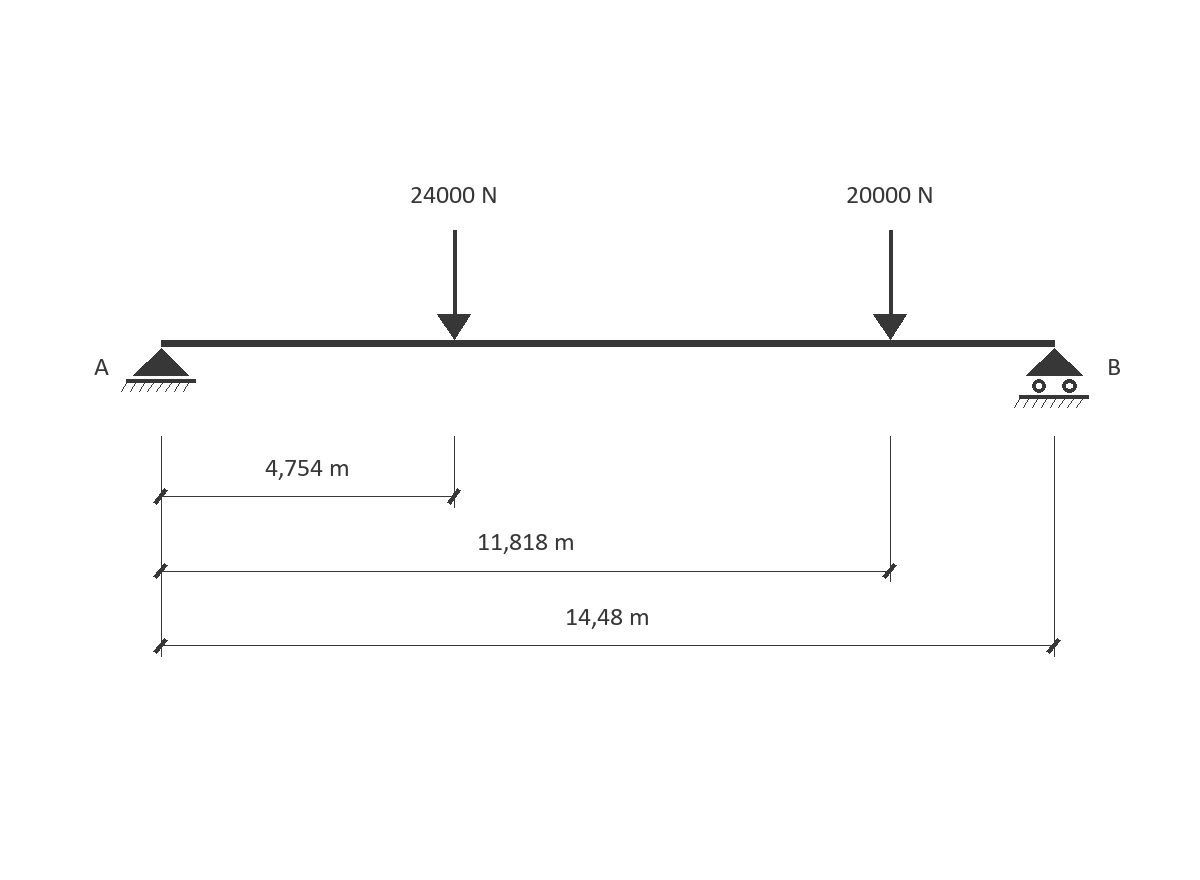pin_support: (121, 348, 196, 392)
point_load: (437, 230, 471, 340), (873, 230, 907, 340)
roller_support: (1014, 348, 1089, 408)
